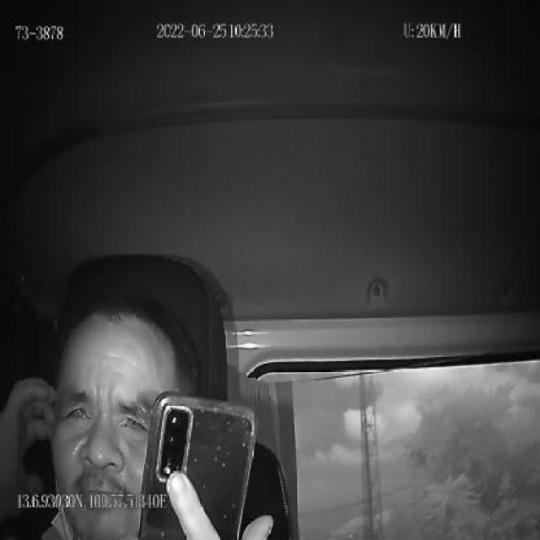phone: (139, 391, 257, 540)
